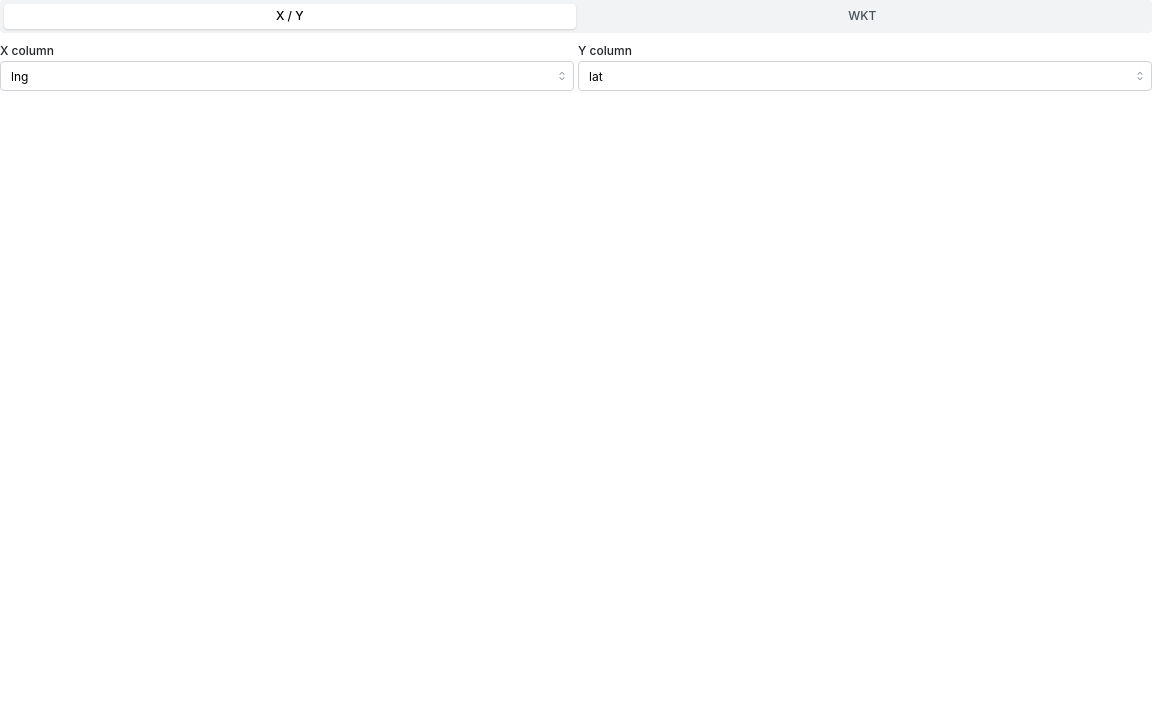
Test: CsvGeometryConfig › swaps to the wkt picker when the mode is switched
What coordinates should you click on to do the following:
click the radio button "WKT"
I would click on:
 (862, 16)
Its box is [848,8,876,23].
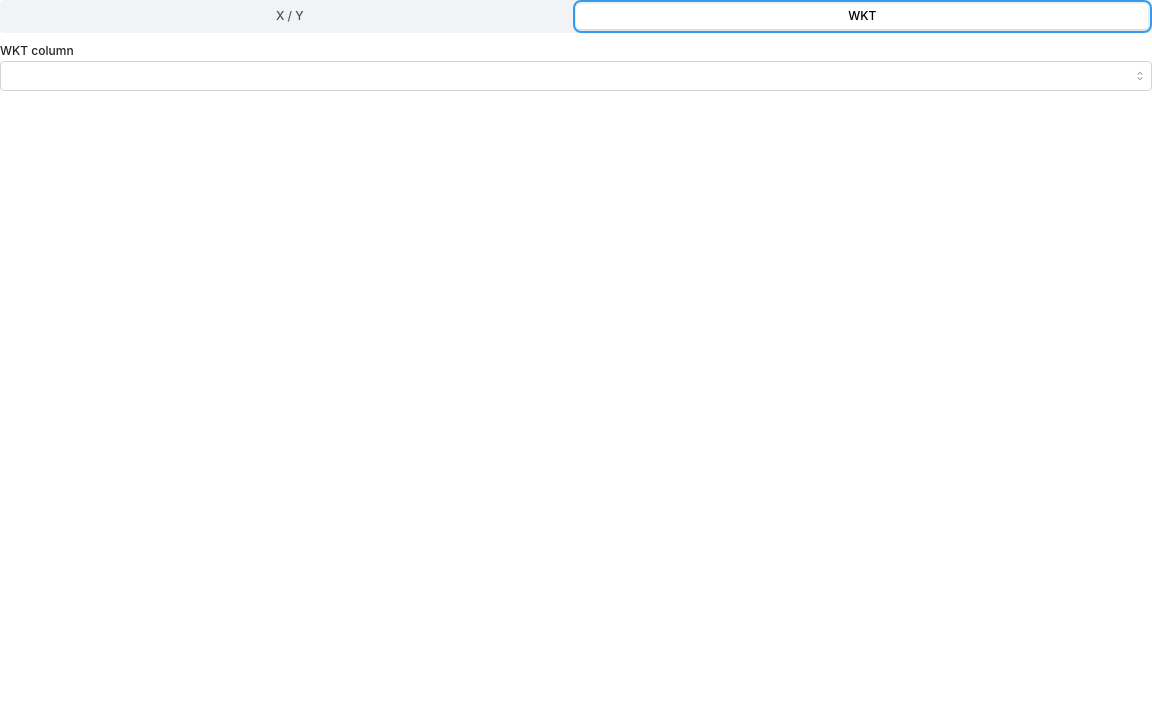
Expected: the dropdown named "WKT column" is shown, [0,61,1151,91]
Expected: the text labelled "X column" is gone
